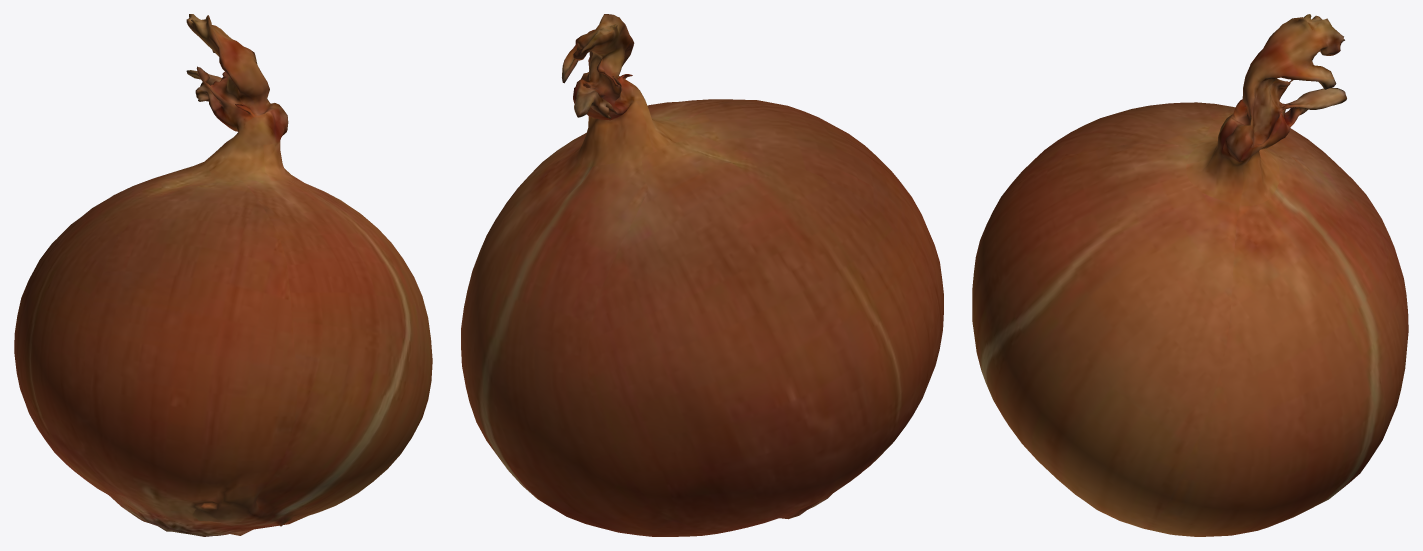
The model's file is yellow_onion.gltf.
3 renders of one model, left to right at view 1: azimuth 30°, elevation 25°; view 2: azimuth 150°, elevation 25°; view 3: azimuth 270°, elevation 25°, orthographic. The views are drawn at different scales.
Parts seen in each view (by area): view 1: yellow_onion; view 2: yellow_onion; view 3: yellow_onion.
Boxes of the visible parts, x1=… form: yellow_onion: x1=14, y1=14, x2=432, y2=536; yellow_onion: x1=461, y1=14, x2=943, y2=536; yellow_onion: x1=972, y1=14, x2=1408, y2=536.
Size of the model in its own units: 0.0725 by 0.0864 by 0.0686.
Materials: 1 (1 with a texture image).
